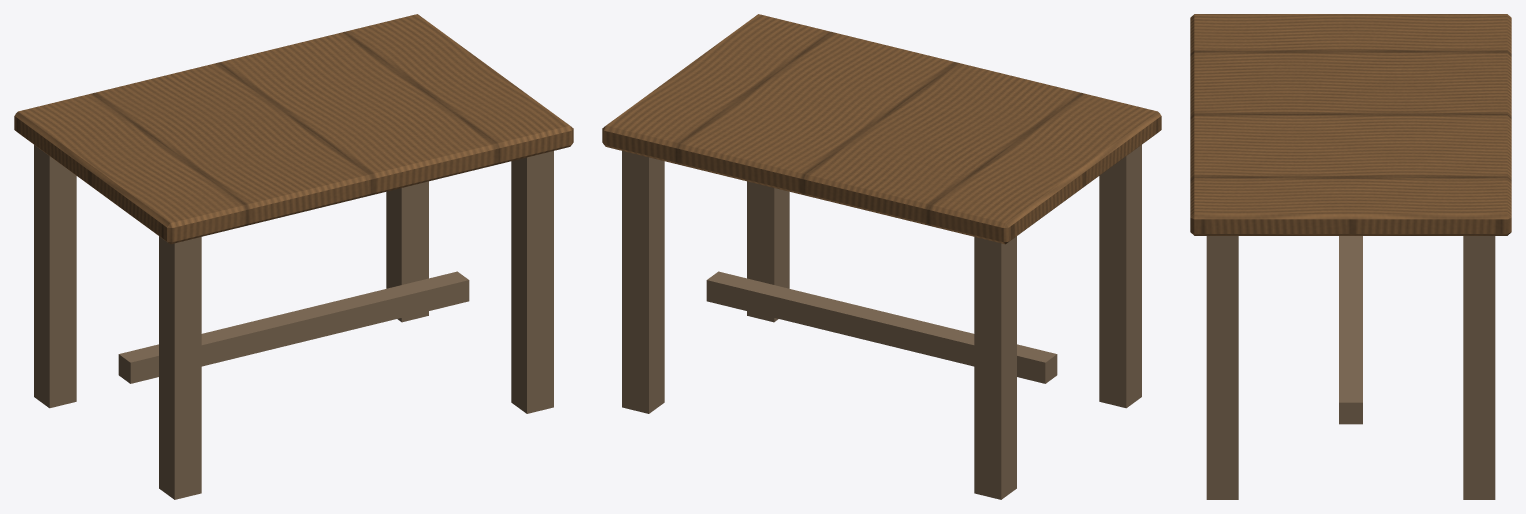
The model's file is table.glb.
The picture shows the model from 3 angles, left to right: view 1: azimuth 30°, elevation 25°; view 2: azimuth 150°, elevation 25°; view 3: azimuth 270°, elevation 25°; orthographic projection. The views are drawn at different scales.
Visible parts, largest first — view 1: table; view 2: table; view 3: table.
Boxes of the visible parts, <box> form: table: <box>14,14,573,499</box>; table: <box>602,14,1161,499</box>; table: <box>1190,14,1511,499</box>.
Size of the model in its own units: 1.2 by 0.8 by 0.8.
Materials: 2 (1 with a texture image).
